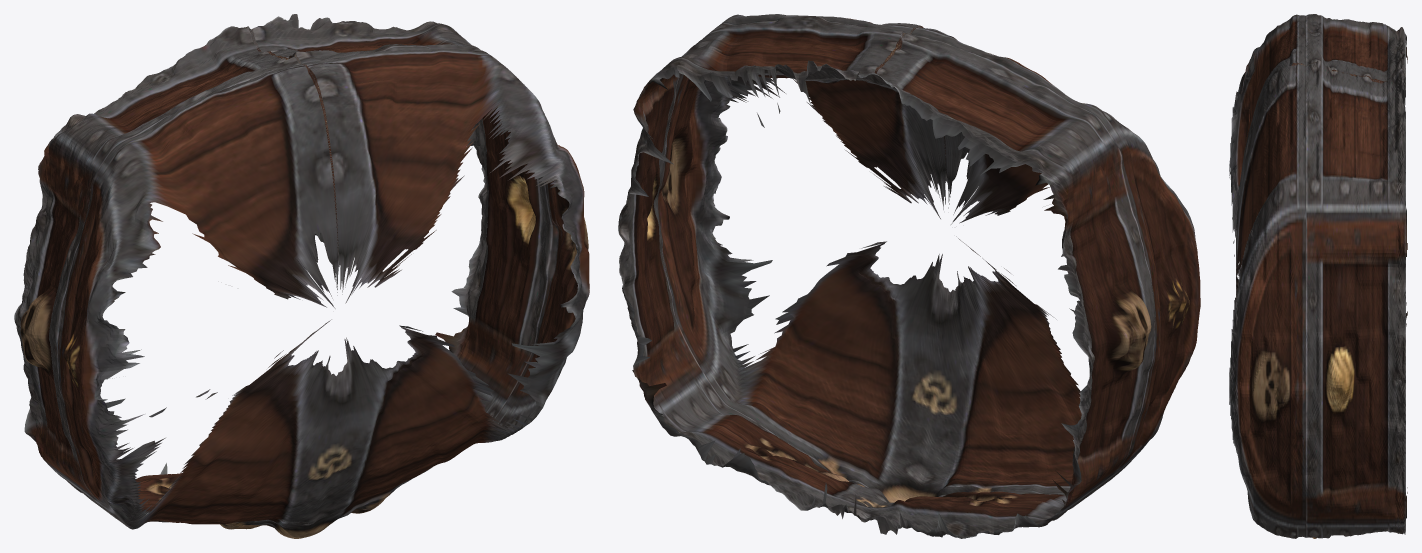
3 renders of one model, left to right at view 1: azimuth 30°, elevation 25°; view 2: azimuth 150°, elevation 25°; view 3: azimuth 270°, elevation 25°, orthographic. The views are drawn at different scales.
Visible parts, largest first — view 1: geometry_0; view 2: geometry_0; view 3: geometry_0.
Boxes of the visible parts, left/top/right/bottom form: geometry_0: left=14, top=14, right=589, bottom=538; geometry_0: left=618, top=14, right=1200, bottom=538; geometry_0: left=1229, top=14, right=1407, bottom=538.
Bounding box in the file's own units: 2 × 1.78 × 0.637.
Materials: 1 (1 with a texture image).
